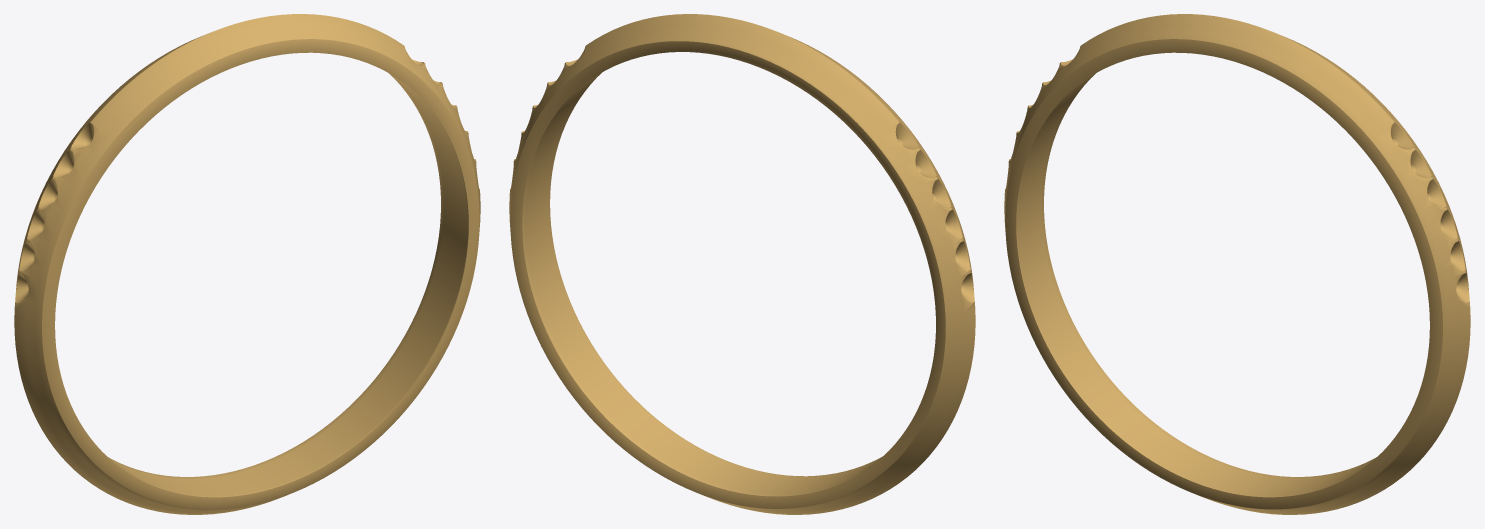
File: knife-edge-micro-pave-head.glb
3 views of the same model, side by side, from view 1: azimuth 30°, elevation 25°; view 2: azimuth 150°, elevation 25°; view 3: azimuth 330°, elevation 25° (orthographic).
Visible parts, largest first — view 1: Band; view 2: Band; view 3: Band.
Boxes of the visible parts, <box> form: Band: <box>14,14,480,514</box>; Band: <box>509,14,975,514</box>; Band: <box>1004,14,1470,514</box>.
Size of the model in its own units: 19.6 by 19.6 by 2.1.
